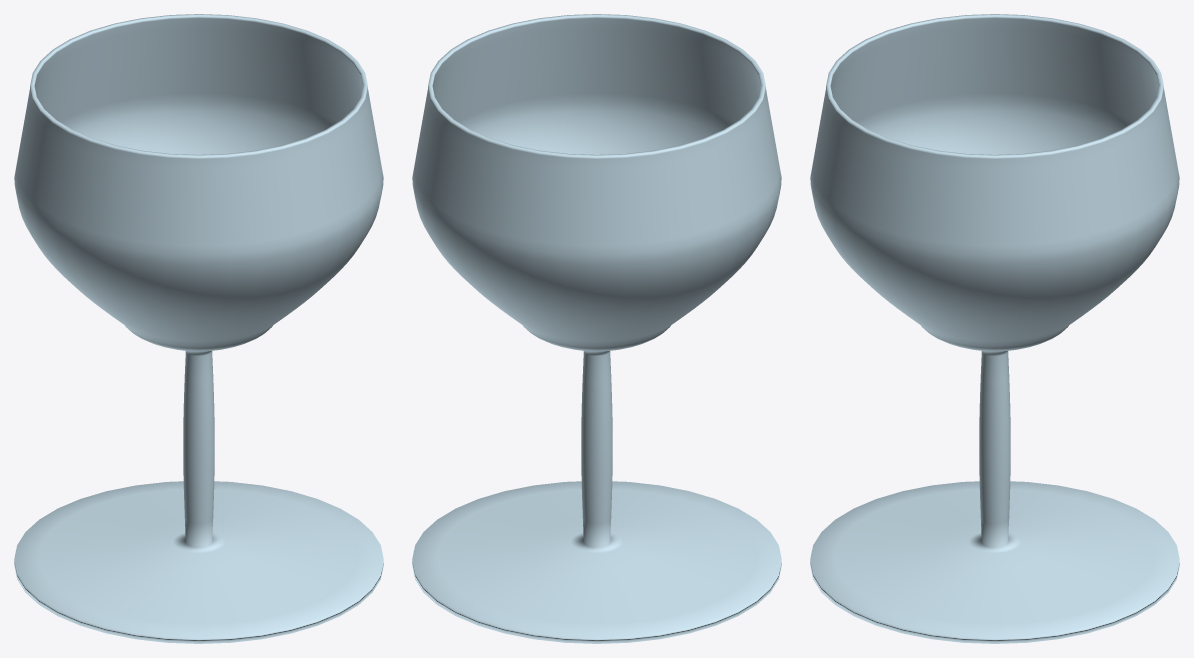
File: WineGlass.fbx
3 views of the same model, side by side, from view 1: azimuth 30°, elevation 25°; view 2: azimuth 150°, elevation 25°; view 3: azimuth 270°, elevation 25° (orthographic).
Parts seen in each view (by area): view 1: WineGlass; view 2: WineGlass; view 3: WineGlass.
Boxes of the visible parts, left/top/right/bottom form: WineGlass: left=14, top=14, right=383, bottom=643; WineGlass: left=412, top=14, right=781, bottom=643; WineGlass: left=810, top=14, right=1179, bottom=643.
Size of the model in its own units: 0.7 by 1 by 0.7.
